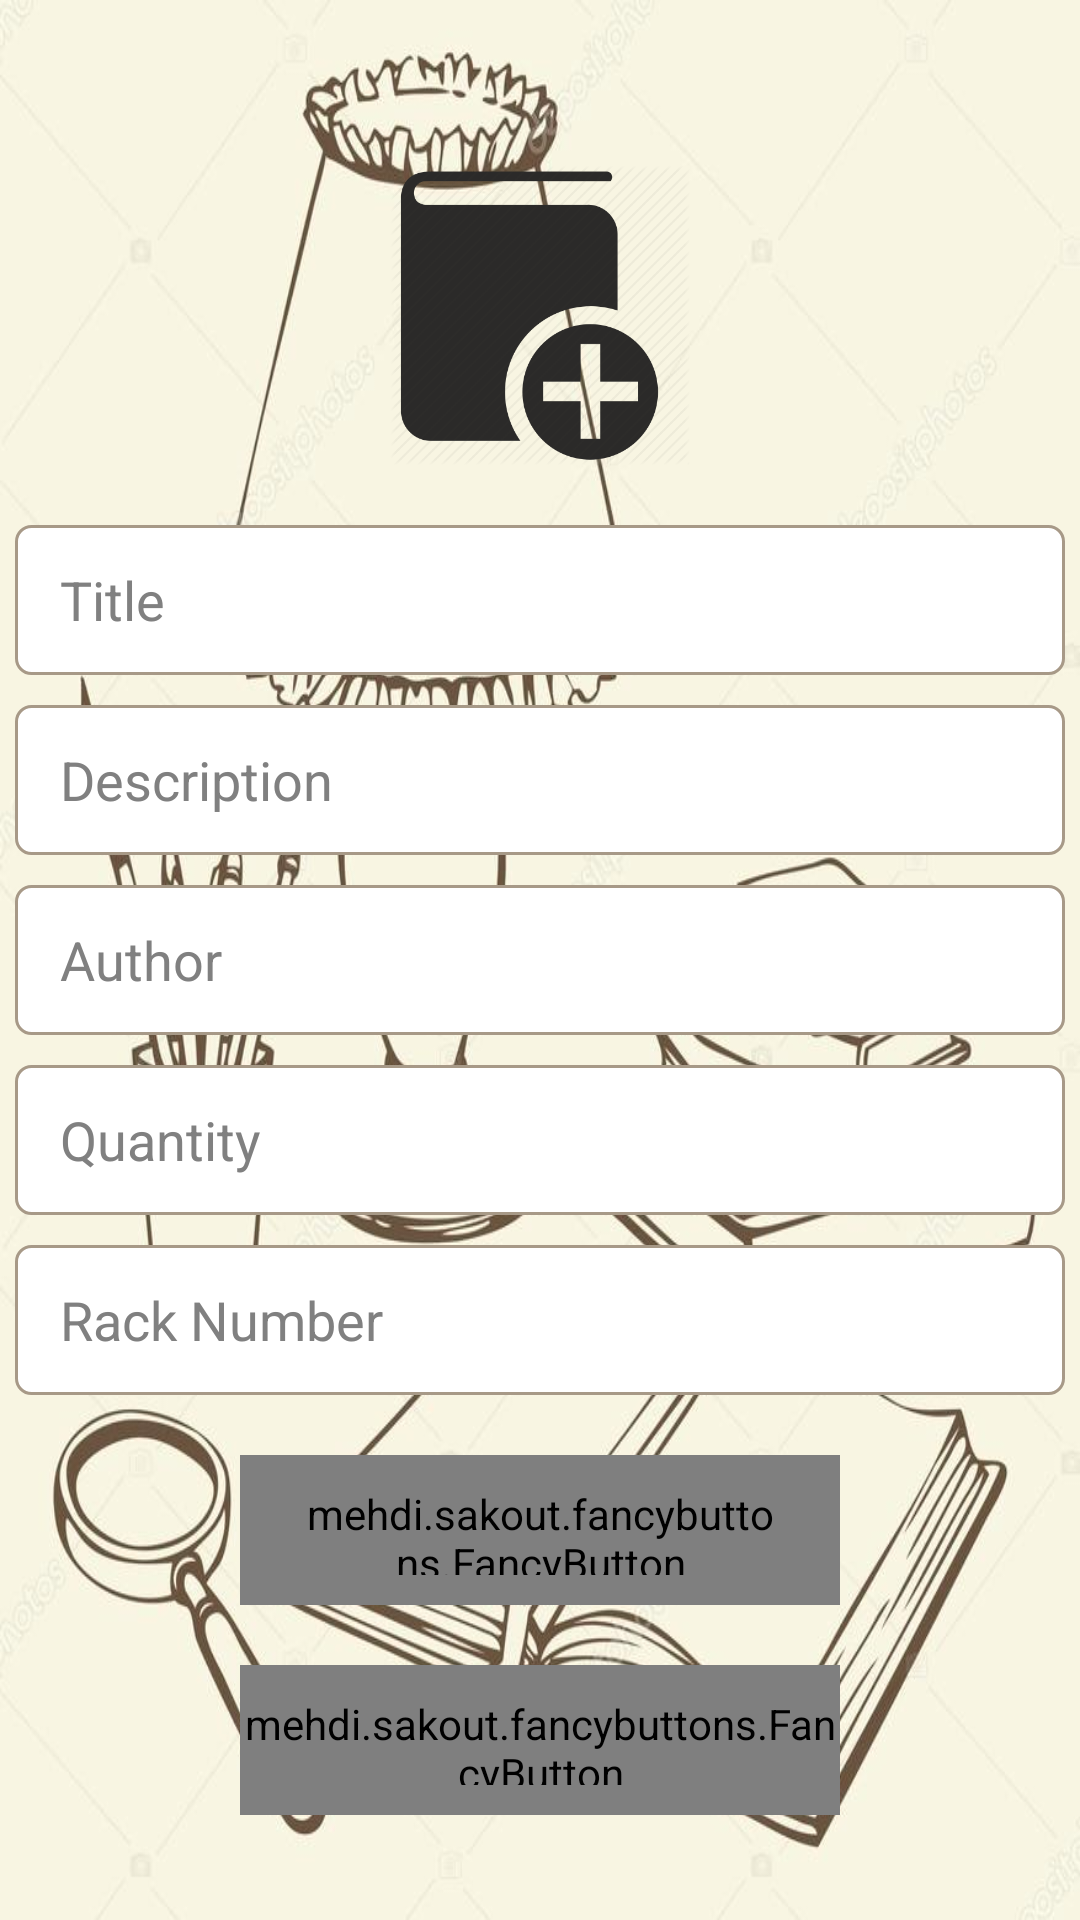

Icon bounding boxes for this 1080w x 1920h phone screenshot, format (left=x1, top=y1, right=x2, bottom=y2):
book: (left=390, top=165, right=659, bottom=465)
